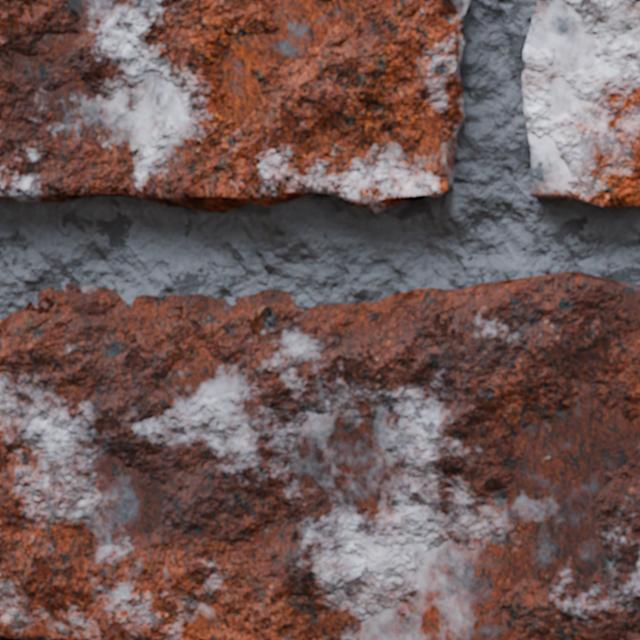brick: (0, 272, 639, 639), (0, 0, 469, 212), (523, 0, 639, 205)
crack: (0, 637, 20, 639)
